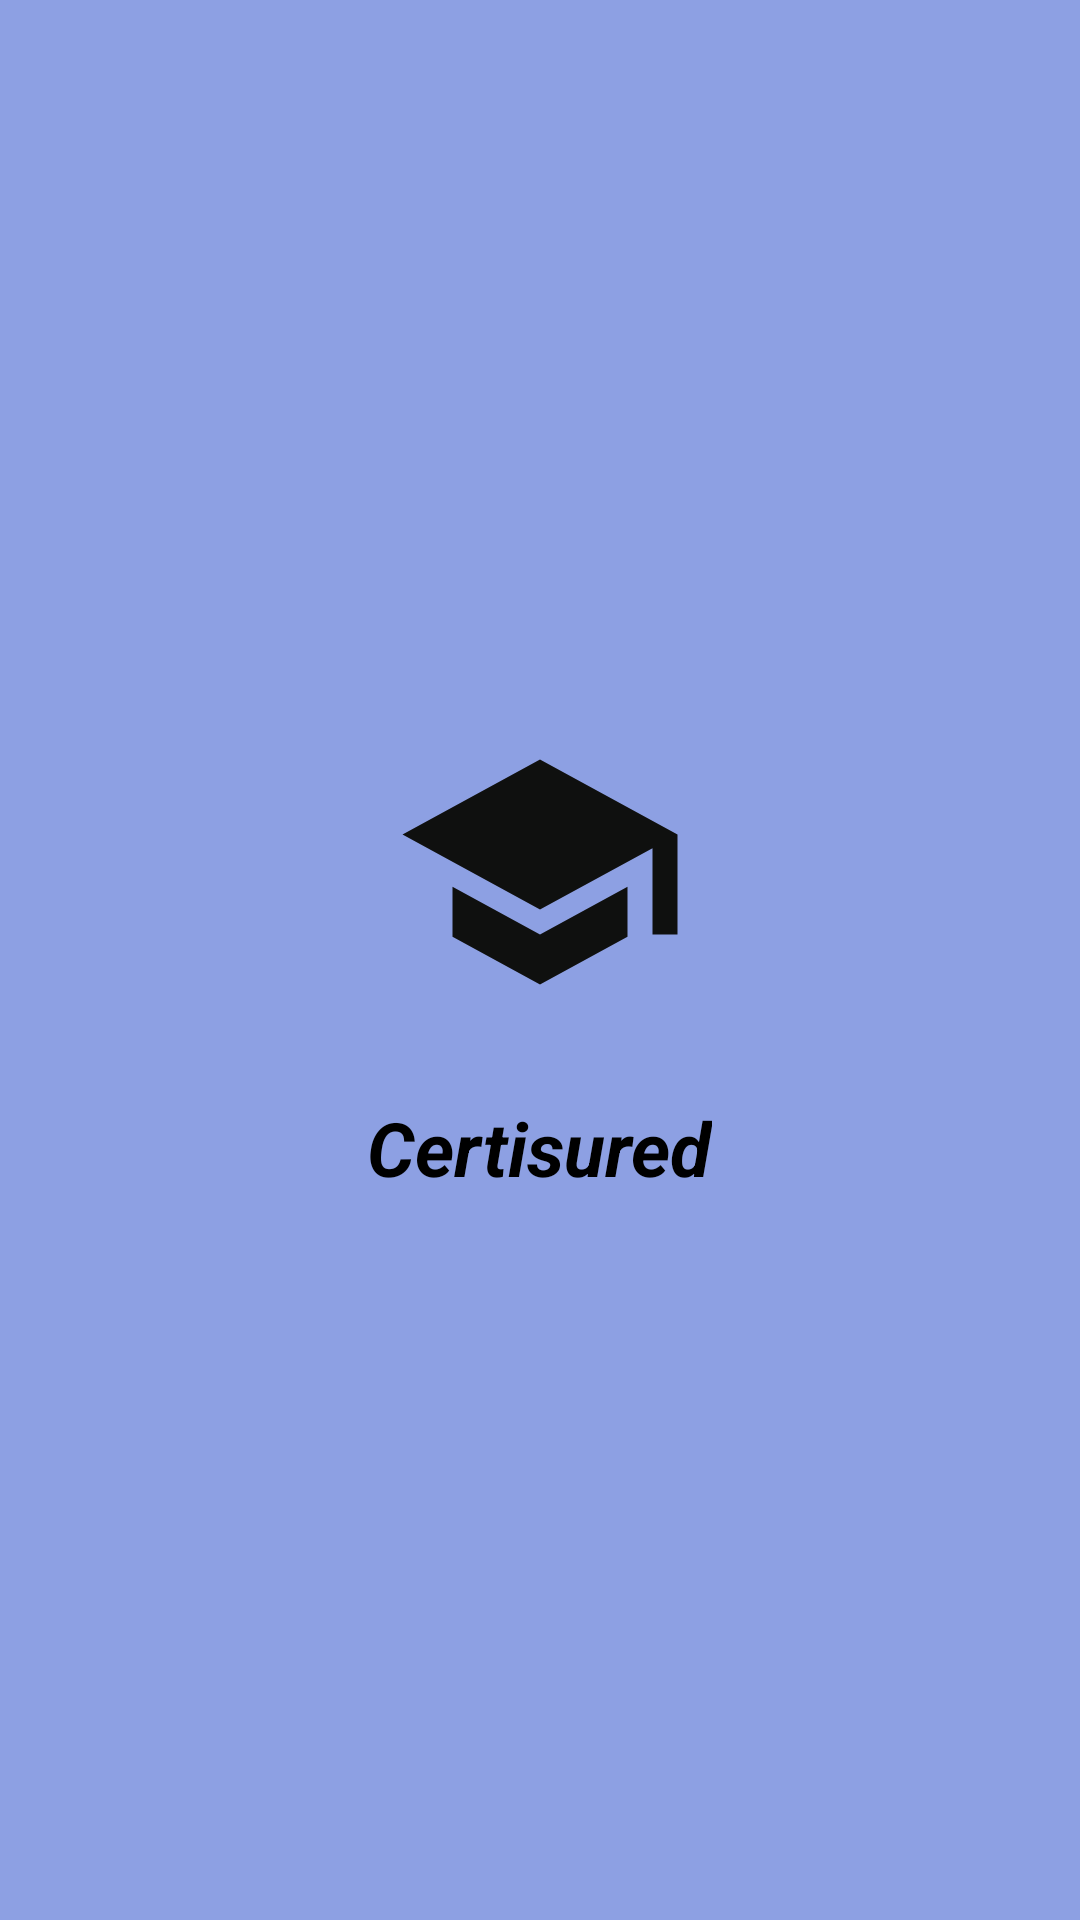

Where to tap for icons on this 1080px x 1920px app screen, as (x,y):
school: (540,872)
